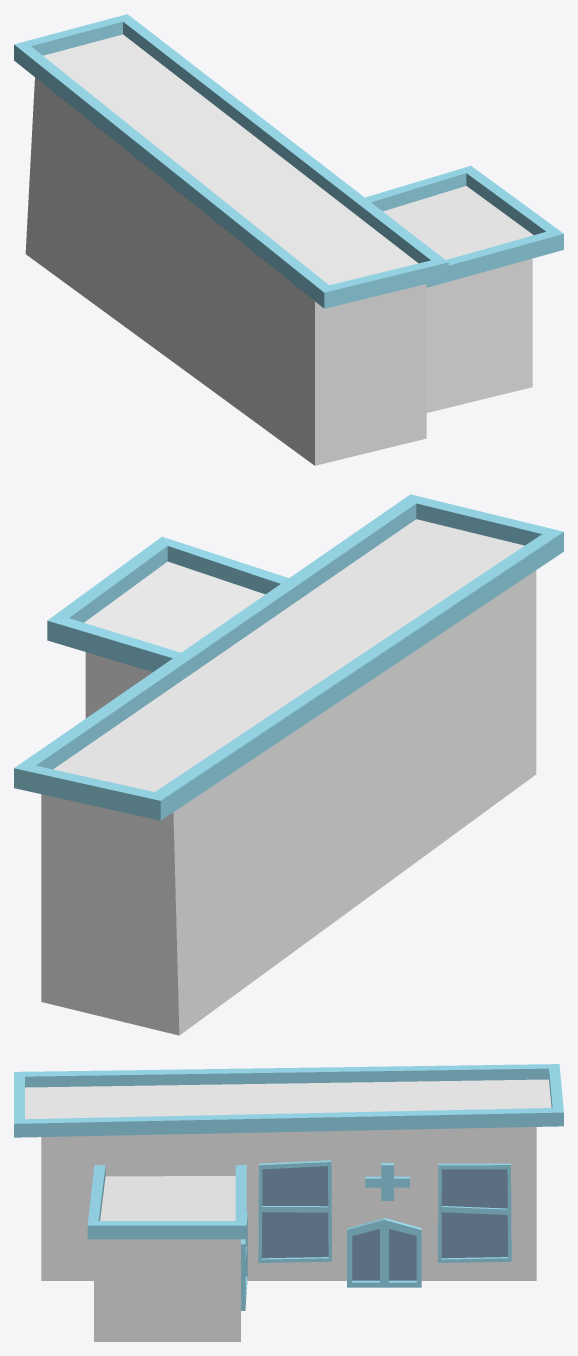
Rendered from Hospital.fbx.
The picture shows the model from 3 angles, top to bottom: view 1: azimuth 30°, elevation 25°; view 2: azimuth 150°, elevation 25°; view 3: azimuth 270°, elevation 25°; orthographic projection. The views are drawn at different scales.
Visible parts, largest first — view 1: Hospital; view 2: Hospital; view 3: Hospital.
Boxes of the visible parts, x1,y1,x2,y2 form: Hospital: (14,14,563,465); Hospital: (14,494,563,1035); Hospital: (14,1064,563,1341).
Bounding box in the file's own units: 1868 × 1295 × 3676.
